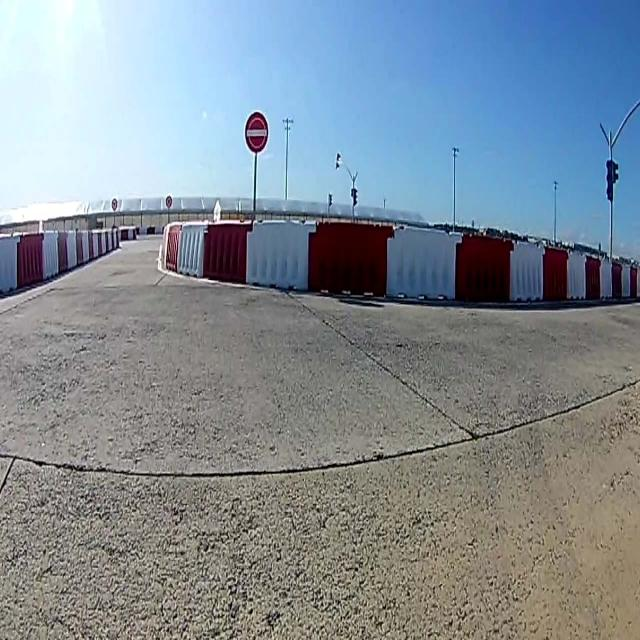girisyok: (246, 114, 268, 151)
